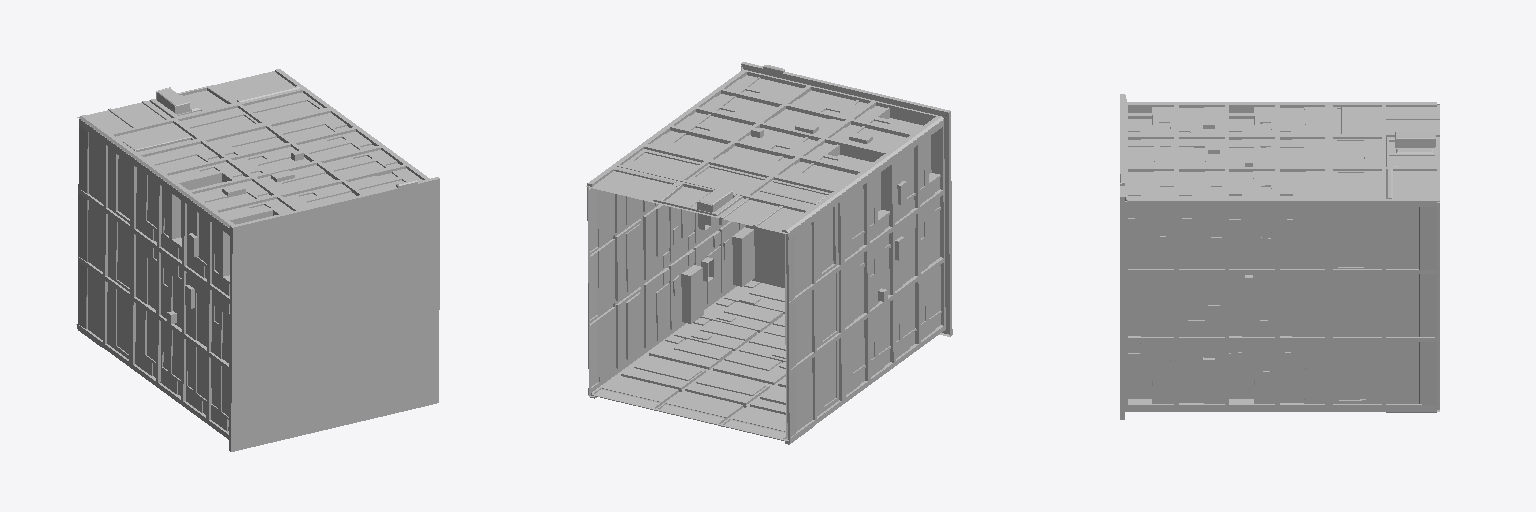
The model's file is b3_ready.obj.
The picture shows the model from 3 angles: view 1: azimuth 30°, elevation 25°; view 2: azimuth 150°, elevation 25°; view 3: azimuth 270°, elevation 25°; orthographic projection.
Visible parts, largest first — view 1: Plane.016; view 2: Plane.016; view 3: Plane.016.
Boxes of the visible parts, <box> form: Plane.016: <box>76,69,439,451</box>; Plane.016: <box>586,62,952,444</box>; Plane.016: <box>1120,94,1439,419</box>.
Size of the model in its own units: 12.86 by 13.36 by 16.99.